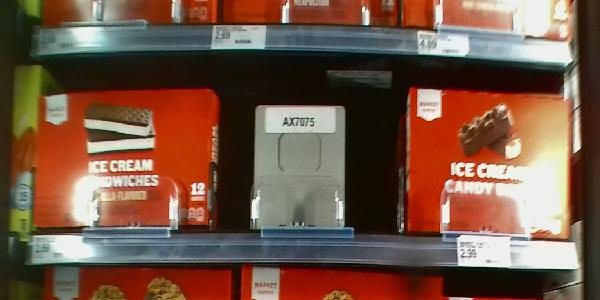icecream: (407, 86, 572, 241), (38, 96, 222, 228)
